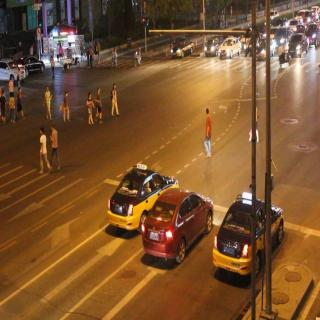Car: (212, 177, 285, 284), (138, 177, 214, 273), (104, 148, 180, 234), (217, 32, 243, 64), (171, 32, 193, 63), (271, 23, 291, 54), (251, 31, 272, 60), (288, 29, 306, 60), (203, 38, 220, 63), (292, 6, 311, 28), (304, 22, 320, 44), (264, 9, 285, 23), (310, 1, 320, 19)
